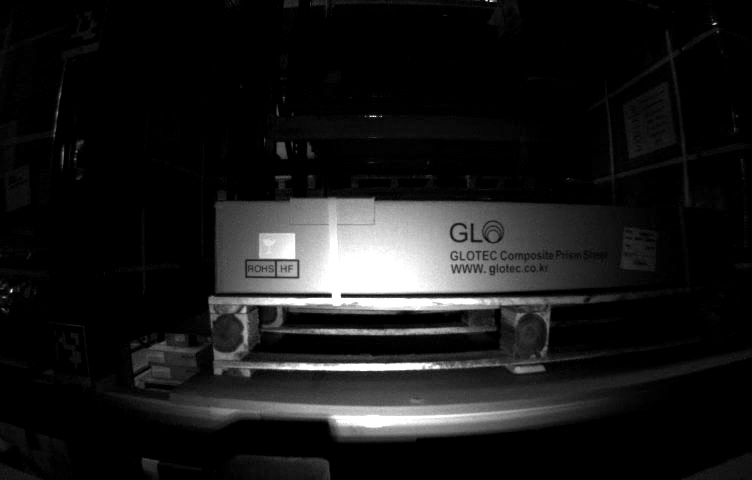True Barcode: (621, 227, 662, 273)
